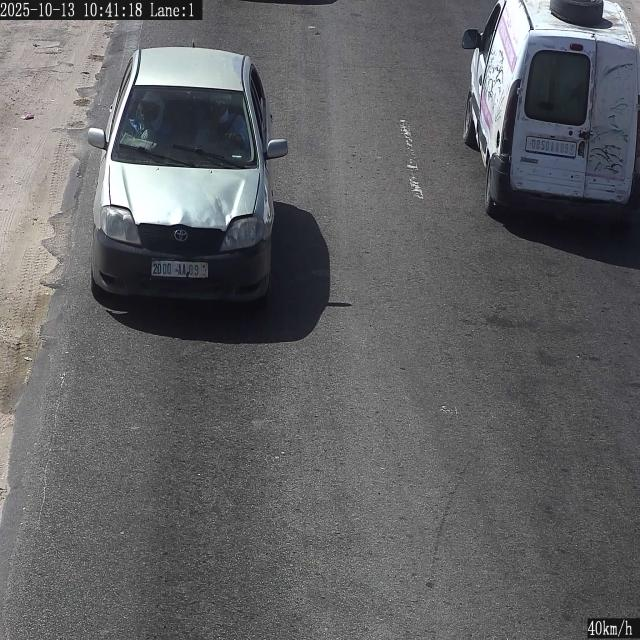BUS: (526, 136, 576, 158), (152, 260, 208, 278)
